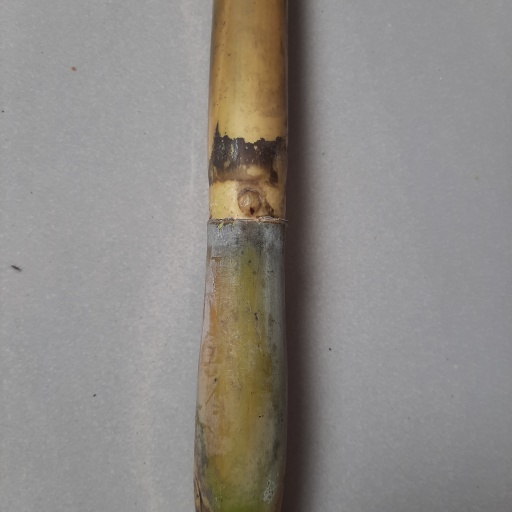Bud: (237, 190, 262, 218)
